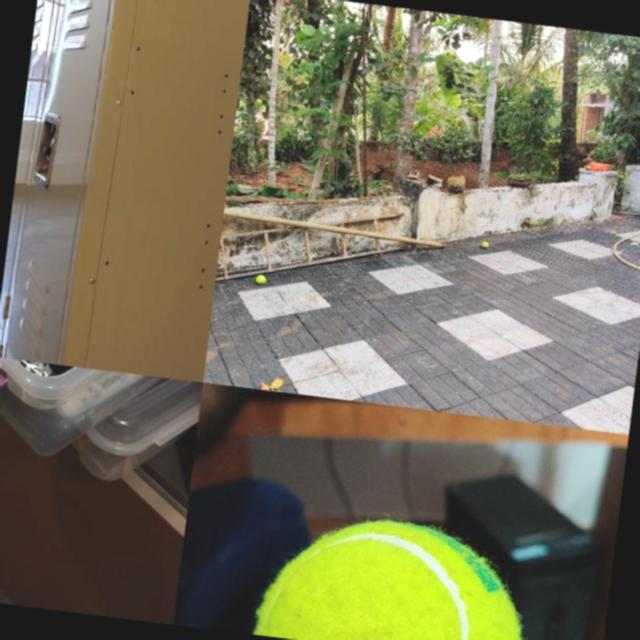Tennis Ball: (254, 505, 538, 640), (255, 274, 266, 284), (481, 241, 489, 249)
